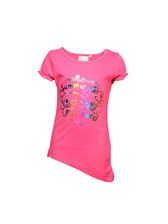clothoes: (35, 45, 139, 187)
